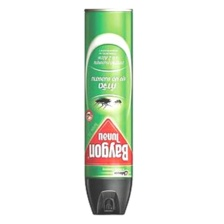aerosol_cans: (80, 6, 136, 218)
